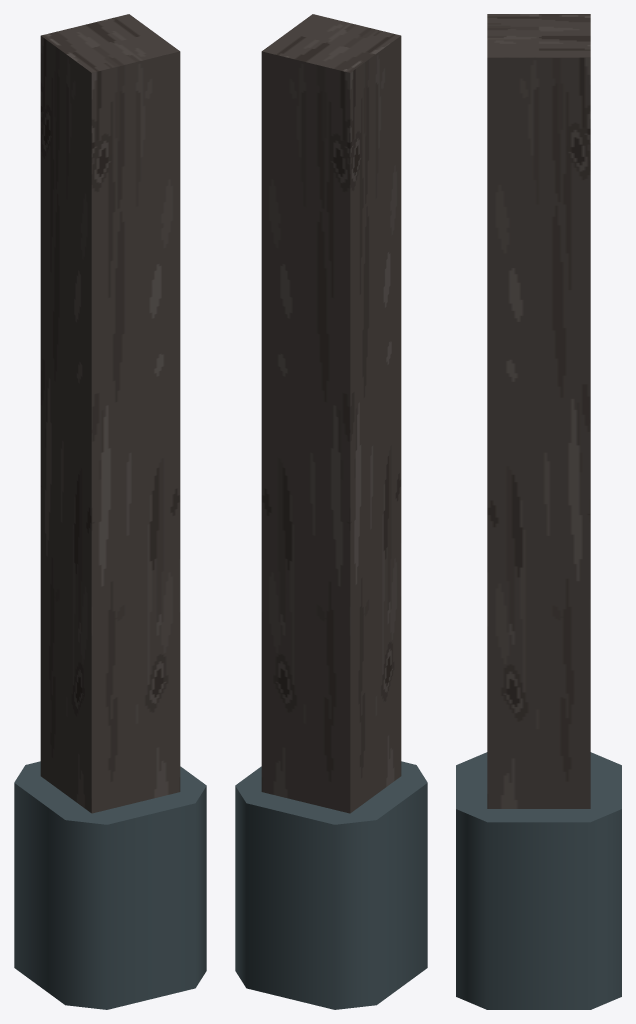
The model's file is pillar-wood.gltf.
The picture shows the model from 3 angles, left to right: view 1: azimuth 30°, elevation 25°; view 2: azimuth 150°, elevation 25°; view 3: azimuth 270°, elevation 25°; orthographic projection.
Parts seen in each view (by area): view 1: pillar-wood; view 2: pillar-wood; view 3: pillar-wood.
Part boxes in pixels (bbox=[...]): pillar-wood: bbox=[14, 14, 206, 1009]; pillar-wood: bbox=[235, 14, 427, 1009]; pillar-wood: bbox=[456, 14, 621, 1009].
Bounding box in the file's own units: 0.16 × 1 × 0.16.
2 materials, 1 textured.
